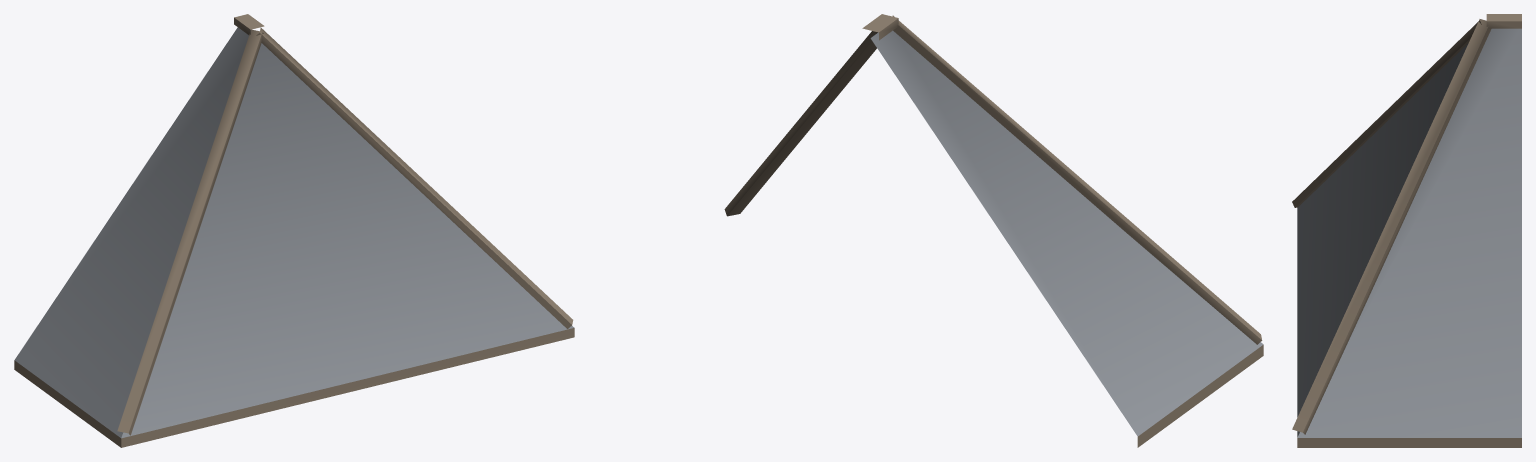
Rendered from sg_roof_hip.glb.
3 views of the same model, side by side, from view 1: azimuth 30°, elevation 25°; view 2: azimuth 150°, elevation 25°; view 3: azimuth 270°, elevation 25° (orthographic). The views are drawn at different scales.
Visible parts, largest first — view 1: sg_roof_hip_SG_Slate, sg_roof_hip_SG_Joinery; view 2: sg_roof_hip_SG_Slate, sg_roof_hip_SG_Joinery; view 3: sg_roof_hip_SG_Slate, sg_roof_hip_SG_Joinery.
Boxes of the visible parts, x1=… form: sg_roof_hip_SG_Slate: x1=14, y1=27, x2=574, y2=438; sg_roof_hip_SG_Joinery: x1=14, y1=14, x2=574, y2=447; sg_roof_hip_SG_Slate: x1=870, y1=30, x2=1263, y2=436; sg_roof_hip_SG_Joinery: x1=724, y1=14, x2=1263, y2=447; sg_roof_hip_SG_Slate: x1=1297, y1=28, x2=1521, y2=437; sg_roof_hip_SG_Joinery: x1=1292, y1=14, x2=1521, y2=447.
Bounding box in the file's own units: 10.97 × 6.87 × 4.55.
